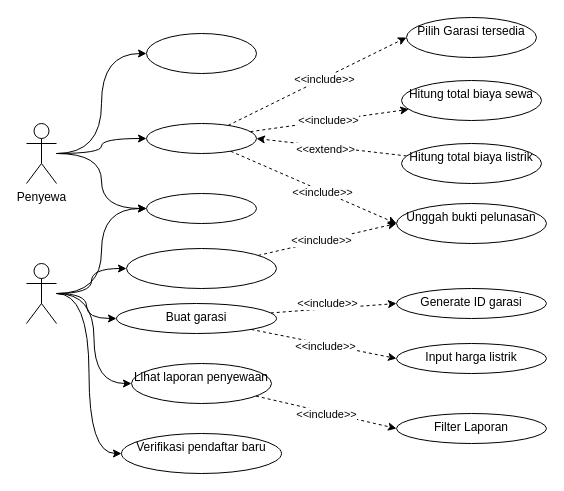
The diagram is 564 pixels wide and 491 high, and some of its shapes have lost their labels. The shapes that lost their labels are listed below. From the top down, each one's centre as x and y in pixels, then its label:
At point 201,53: "Registrasi penyewa".
At point 201,138: "Sewa garasi".
At point 201,208: "Login".
At point 201,268: "Perpanjang status garasi".
At point 41,293: "Admin".
